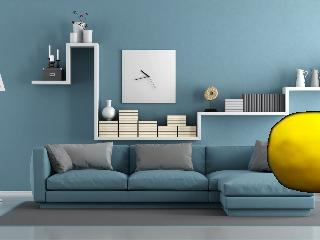lemon: (267, 113, 319, 194)
